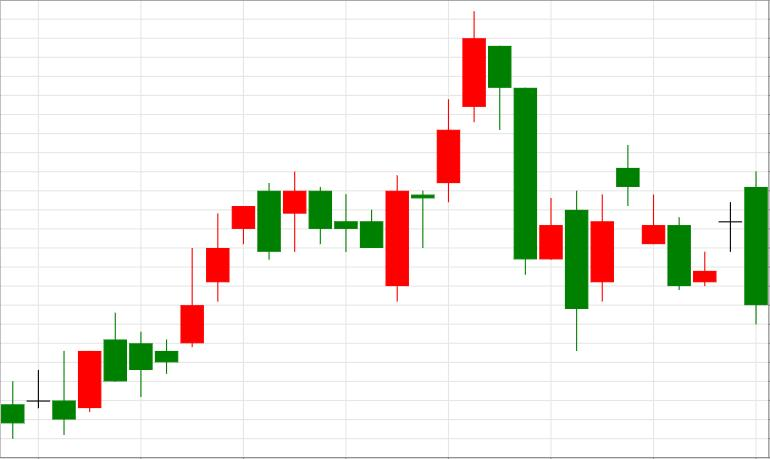bearish_engulfing_fall: (180, 184, 281, 348)
bullish_engulfing_rise: (309, 174, 409, 302)
shooting_star_fall: (52, 248, 204, 436)
